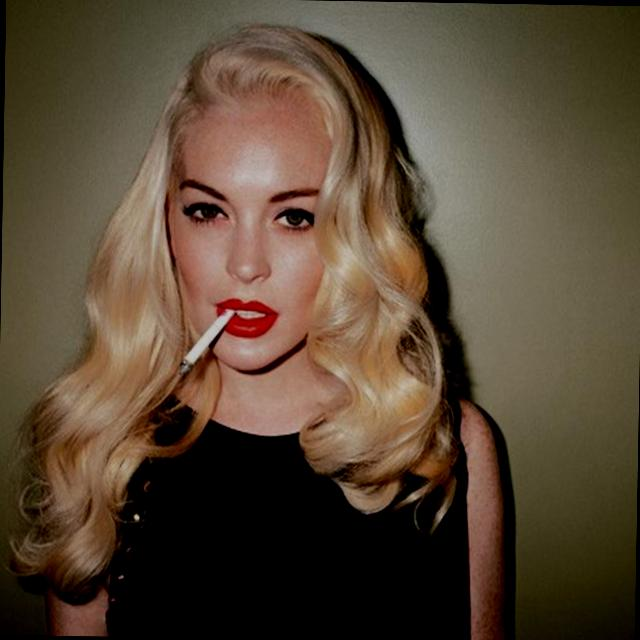smoke: (150, 293, 247, 396)
